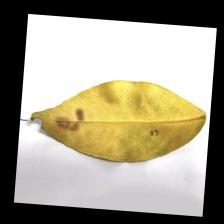canker: (26, 98, 166, 146)
